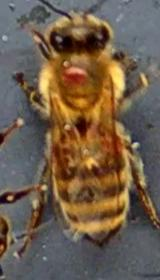varroa_mite: (53, 54, 94, 100)
